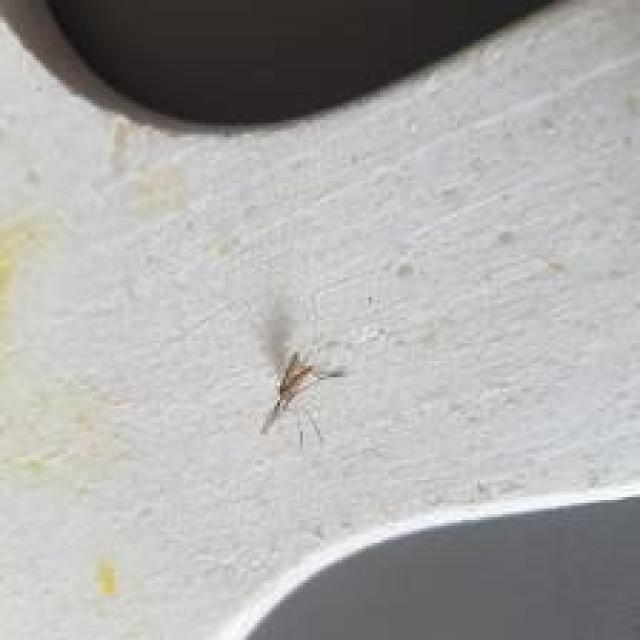Culex: (260, 348, 346, 446)
